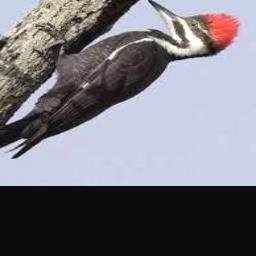Woodpecker: (0, 0, 240, 171)
